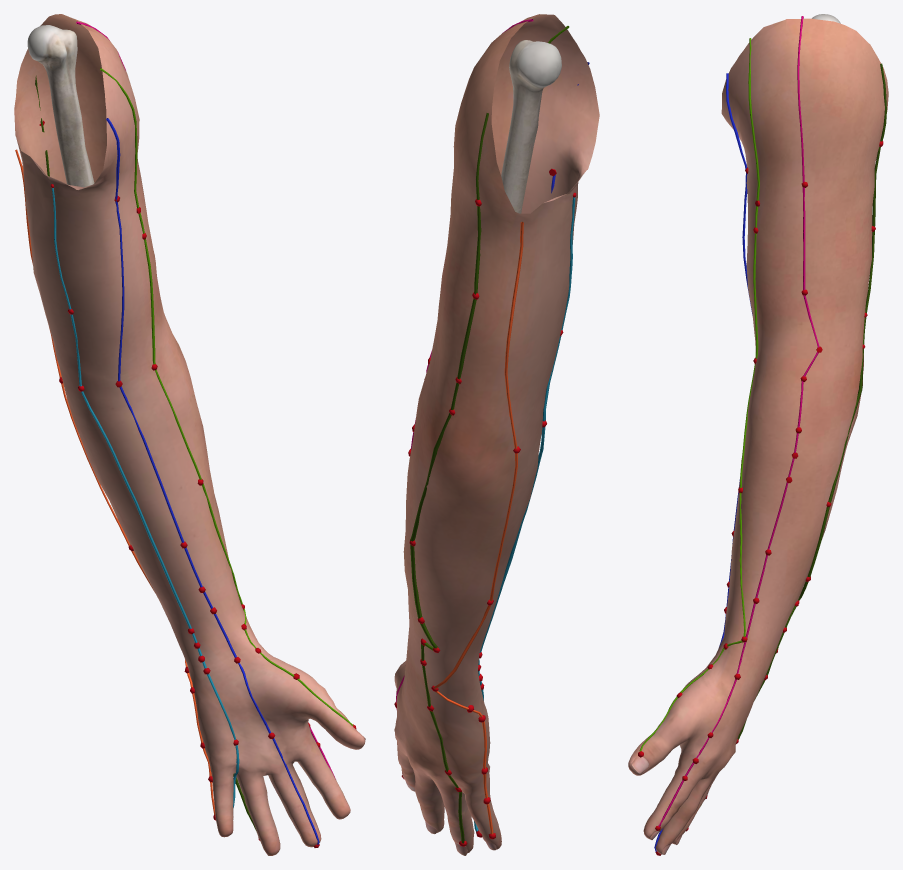
Rendered from hand.fbx.
The picture shows the model from 3 angles, left to right: view 1: azimuth 30°, elevation 25°; view 2: azimuth 150°, elevation 25°; view 3: azimuth 270°, elevation 25°; orthographic projection. The views are drawn at different scales.
Parts seen in each view (by area): view 1: M_Skin_L, Humerus_L, M_09Meridiasn_PC, M_01Meridiasn_LU, M_05Meridiasn_HT, M_06Meridiasn_SI; view 2: M_Skin_L, Humerus_L, M_10Meridiasn_SJ, M_06Meridiasn_SI, M_05Meridiasn_HT; view 3: M_Skin_L, M_02Meridiasn_LI, M_01Meridiasn_LU, M_10Meridiasn_SJ, M_09Meridiasn_PC.
Boxes of the visible parts, x1,y1,x2,y2 form: M_Skin_L: (14, 14, 365, 855); Humerus_L: (27, 25, 94, 187); M_09Meridiasn_PC: (106, 118, 319, 844); M_01Meridiasn_LU: (100, 68, 353, 725); M_05Meridiasn_HT: (52, 188, 239, 807); M_06Meridiasn_SI: (15, 149, 215, 814); M_Skin_L: (394, 14, 599, 855); Humerus_L: (501, 40, 561, 213); M_10Meridiasn_SJ: (410, 113, 488, 843); M_06Meridiasn_SI: (434, 221, 523, 834); M_05Meridiasn_HT: (474, 197, 575, 831); M_Skin_L: (628, 18, 888, 854); M_02Meridiasn_LI: (658, 16, 819, 826); M_01Meridiasn_LU: (639, 38, 759, 751); M_10Meridiasn_SJ: (700, 63, 886, 806); M_09Meridiasn_PC: (654, 73, 752, 851).
Bounding box in the file's own units: 2.66 × 2.72 × 8.86.
Materials: 9 (2 with a texture image).
